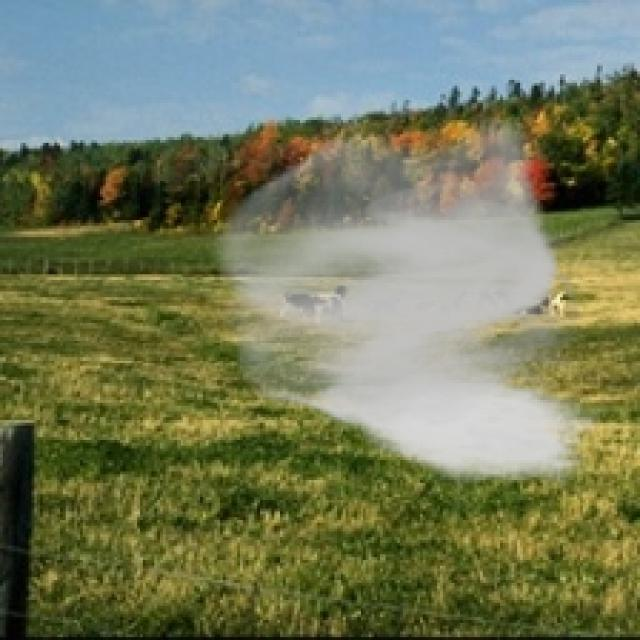smoke: (203, 117, 606, 489)
